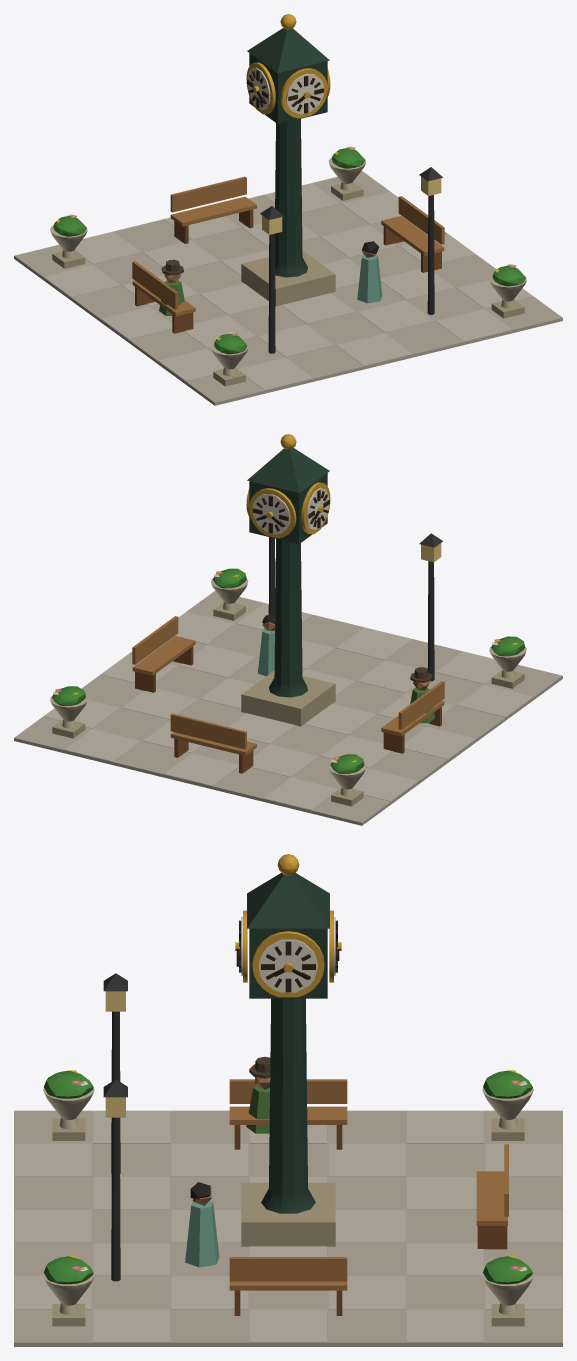
Rendered from clock_square.glb.
The picture shows the model from 3 angles, top to bottom: view 1: azimuth 30°, elevation 25°; view 2: azimuth 150°, elevation 25°; view 3: azimuth 270°, elevation 25°; orthographic projection. The views are drawn at different scales.
Parts seen in each view (by area): view 1: town-clock_square; view 2: town-clock_square; view 3: town-clock_square.
Boxes of the visible parts, <box> form: town-clock_square: <box>14,14,562,405</box>; town-clock_square: <box>14,434,562,825</box>; town-clock_square: <box>14,854,562,1346</box>.
Size of the model in its own units: 7 by 5.29 by 7.
